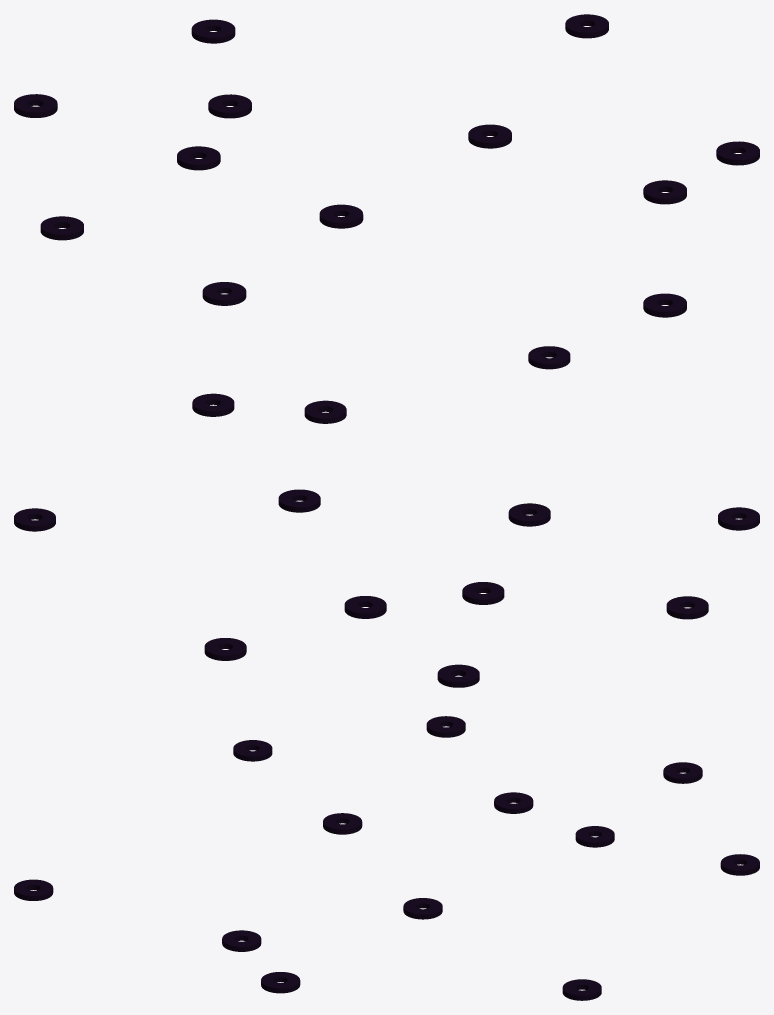
The model's file is olive layer.fbx.
The picture shows the model from 3 angles, top to bottom: view 1: azimuth 30°, elevation 25°; view 2: azimuth 150°, elevation 25°; view 3: azimuth 270°, elevation 25°; orthographic projection. The views are drawn at different scales.
Parts seen in each view (by area): view 1: olive layer; view 2: olive layer; view 3: olive layer.
Part boxes in pixels (x1,y1,x2,y2): olive layer: (14,14,759,317); olive layer: (14,346,759,687); olive layer: (14,716,759,1000).
Bounding box in the file's own units: 1683 × 14.14 × 1897.
